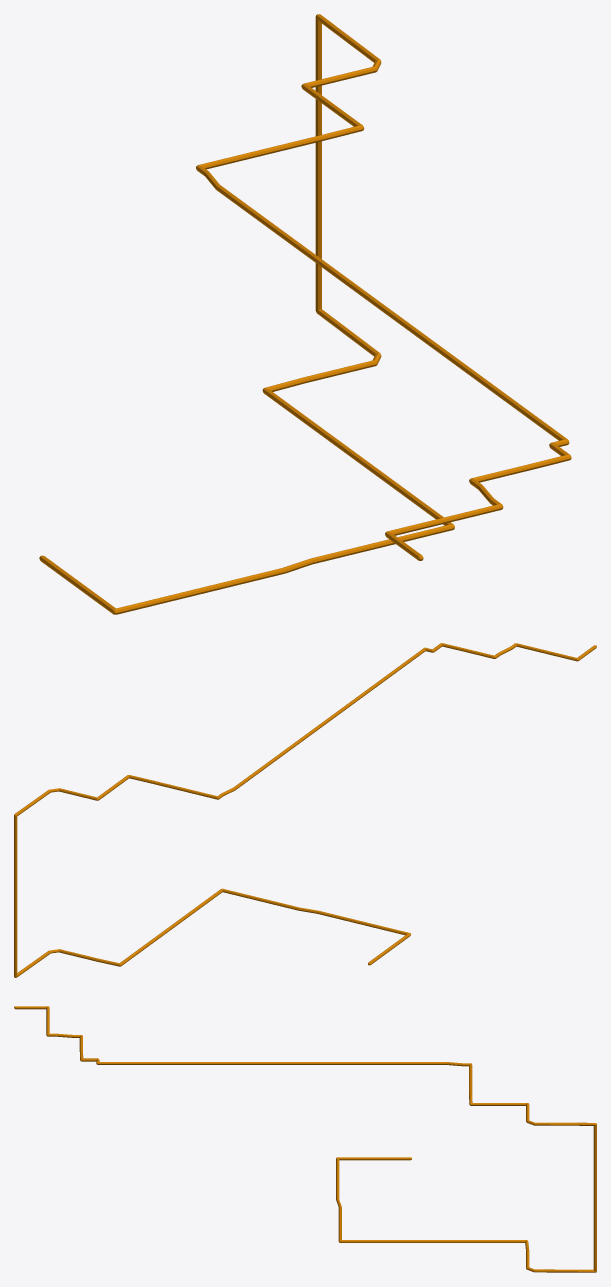
3 renders of one model, top to bottom at view 1: azimuth 30°, elevation 25°; view 2: azimuth 150°, elevation 25°; view 3: azimuth 270°, elevation 25°, orthographic. The views are drawn at different scales.
Bounding box in the file's own units: 1723 × 1020 × 3598.
